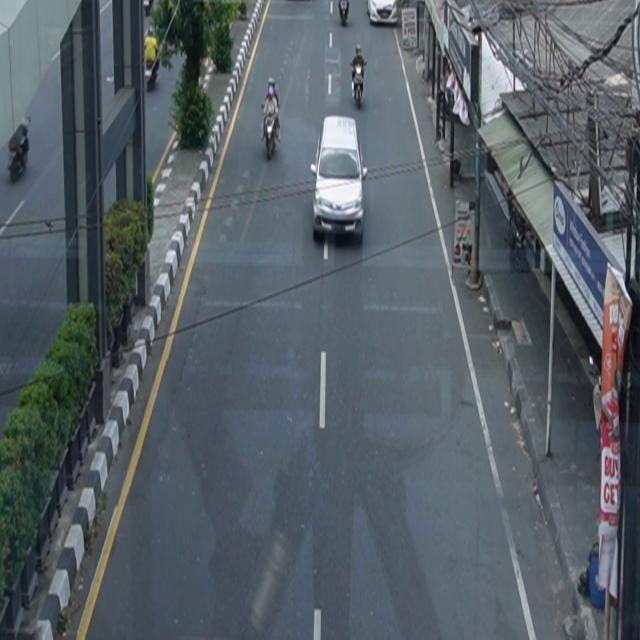car: (311, 116, 369, 245), (367, 1, 398, 26)
